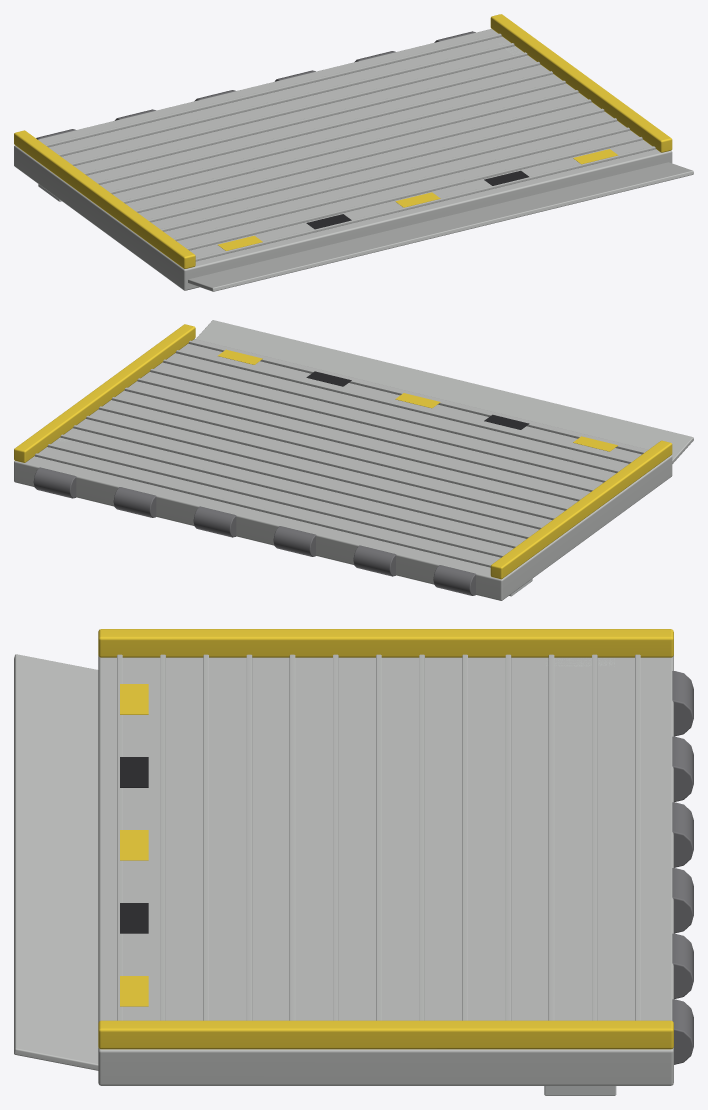
File: ferry_ramp.glb
The picture shows the model from 3 angles, top to bottom: view 1: azimuth 30°, elevation 25°; view 2: azimuth 150°, elevation 25°; view 3: azimuth 270°, elevation 25°; orthographic projection. The views are drawn at different scales.
Parts seen in each view (by area): view 1: SM_ferry_ramp; view 2: SM_ferry_ramp; view 3: SM_ferry_ramp.
Boxes of the visible parts, x1,y1,x2,y2 form: SM_ferry_ramp: (14,14,693,291); SM_ferry_ramp: (14,320,693,600); SM_ferry_ramp: (14,629,693,1095).
Bounding box in the file's own units: 6.6 × 0.56 × 4.73.
